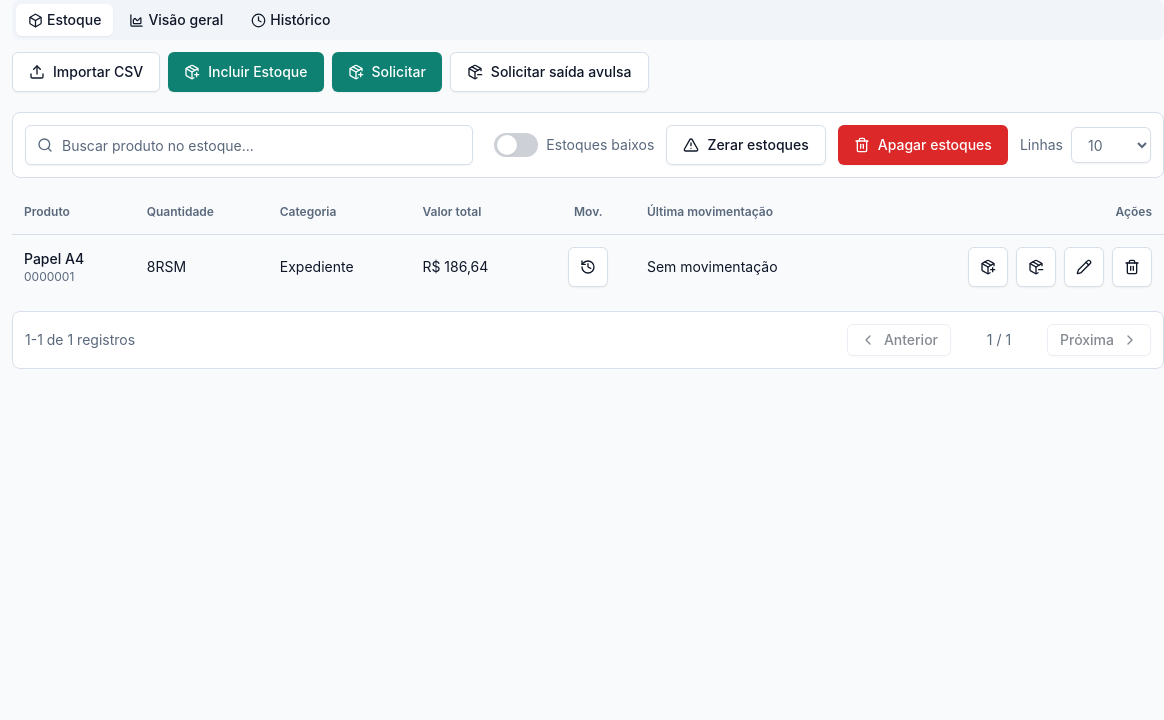
Scenario: WarehouseTabs › shows statistical overview instead of duplicating the stock table
Click the tab "Visão geral" at (176,20), box [117,4,235,36]
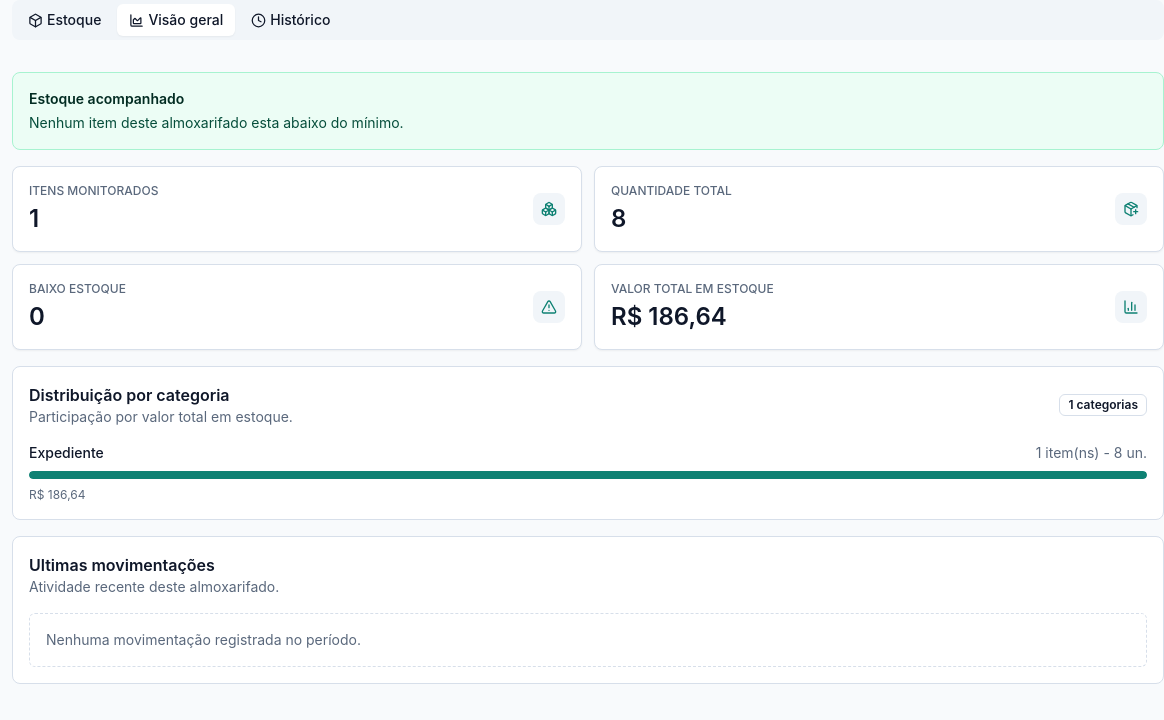
Expected: the field labelled "Buscar produto no estoque..." is not shown
Expected: the text "Valor total em estoque" is shown, [611,281,774,297]
Expected: the heading "Distribuição por categoria" is shown, [29,385,230,405]
